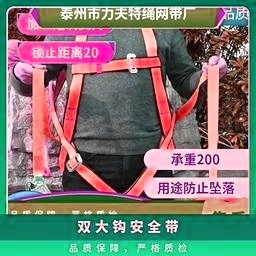safety belt: (54, 23, 180, 199)
